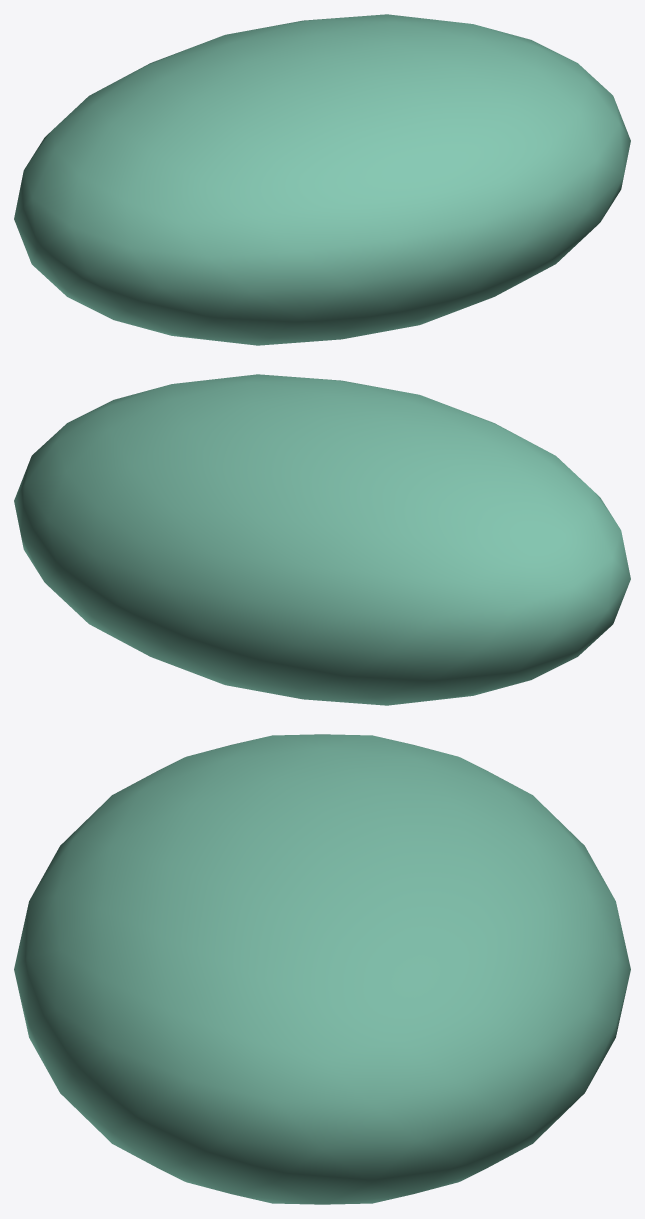
Rendered from item_shell_seaglass.glb.
The picture shows the model from 3 angles, top to bottom: view 1: azimuth 30°, elevation 25°; view 2: azimuth 150°, elevation 25°; view 3: azimuth 270°, elevation 25°; orthographic projection. The views are drawn at different scales.
Parts seen in each view (by area): view 1: item_shell_seaglass_gloss; view 2: item_shell_seaglass_gloss; view 3: item_shell_seaglass_gloss.
Part boxes in pixels (x1,y1,x2,y2): item_shell_seaglass_gloss: [14, 14, 630, 345]; item_shell_seaglass_gloss: [14, 374, 630, 705]; item_shell_seaglass_gloss: [14, 734, 630, 1204].
Bounding box in the file's own units: 0.22 × 0.09 × 0.16.
